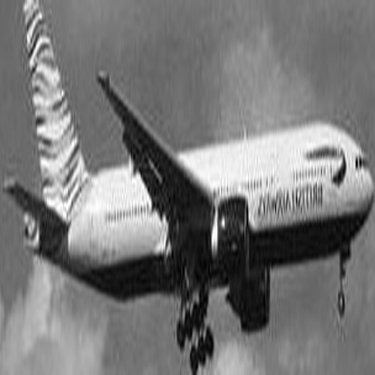airplane: (3, 3, 367, 370)
